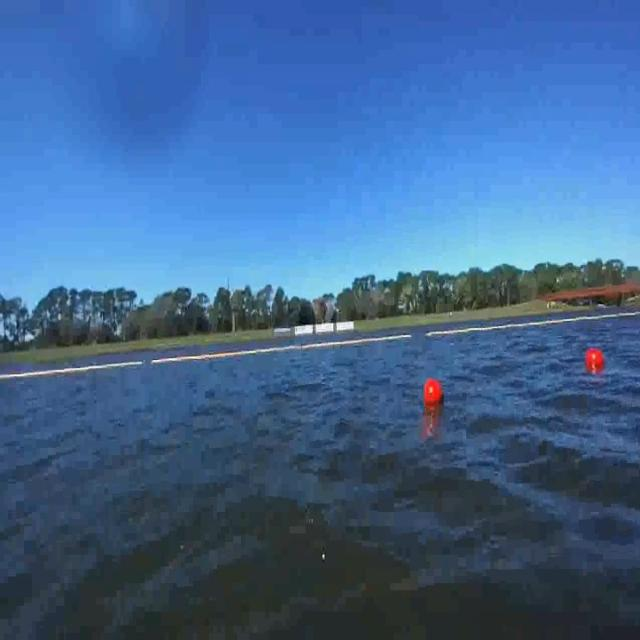red-buoy: (423, 376, 443, 406), (582, 349, 602, 373)
